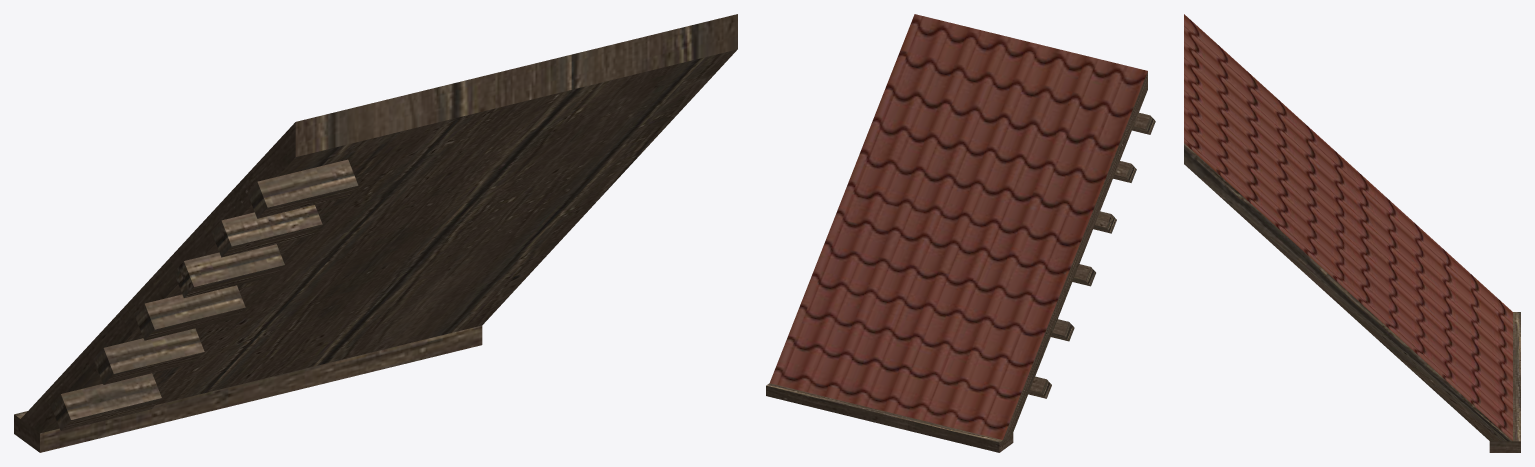
The model's file is ARC1010384.fbx.
The picture shows the model from 3 angles, left to right: view 1: azimuth 30°, elevation 25°; view 2: azimuth 150°, elevation 25°; view 3: azimuth 270°, elevation 25°; orthographic projection. The views are drawn at different scales.
Visible parts, largest first — view 1: smARC1010384; view 2: smARC1010384; view 3: smARC1010384.
Part boxes in pixels (x1=…): smARC1010384: x1=14, y1=14, x2=737, y2=452; smARC1010384: x1=766, y1=14, x2=1155, y2=452; smARC1010384: x1=1184, y1=14, x2=1520, y2=452.
Bounding box in the file's own units: 305 × 325 × 320.
1 material, 1 textured.
